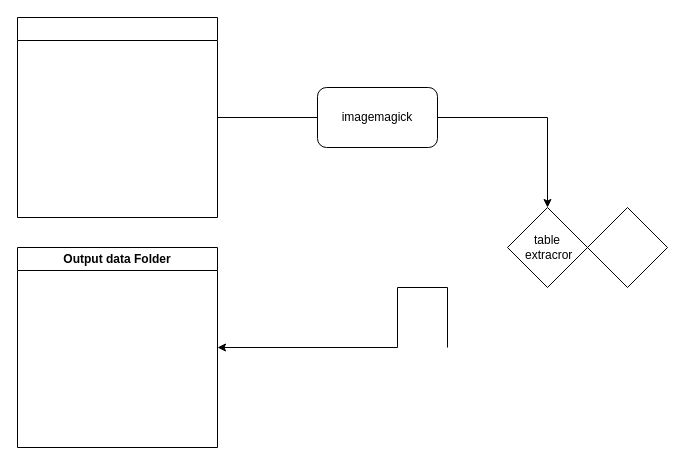
Some shapes in this 685 by 465 pixel diagram are drawn without their labels. Here are the shapes that lost their labels. From the top down, the box of each, then its label:
(16, 16, 218, 218): Invoices Folder
(586, 206, 668, 288): tesseract
